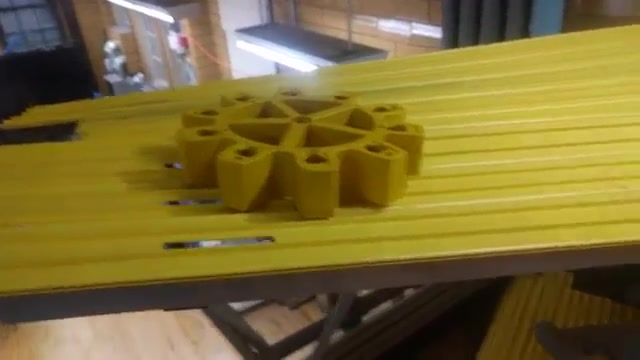gear: (168, 83, 428, 215)
